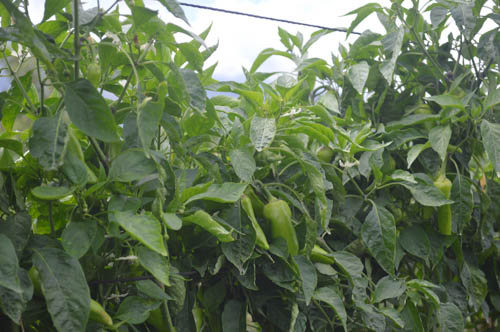ChiliPepper: (266, 201, 301, 256), (433, 181, 452, 233)
